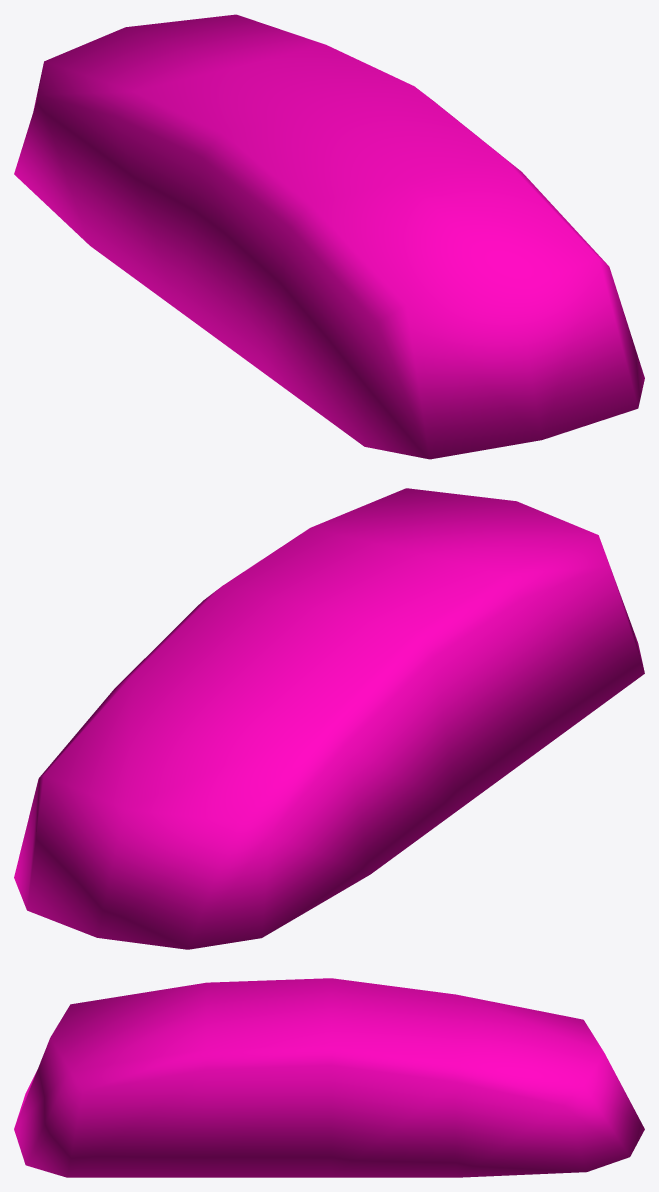
The model's file is crushed_car_collision.FBX.
The picture shows the model from 3 angles, top to bottom: view 1: azimuth 30°, elevation 25°; view 2: azimuth 150°, elevation 25°; view 3: azimuth 270°, elevation 25°; orthographic projection. The views are drawn at different scales.
Visible parts, largest first — view 1: collision; view 2: collision; view 3: collision.
Boxes of the visible parts, x1,y1,x2,y2 form: collision: (14, 14, 644, 459); collision: (14, 488, 644, 949); collision: (14, 978, 644, 1177).
Size of the model in its own units: 2.03 by 1.15 by 5.58.
